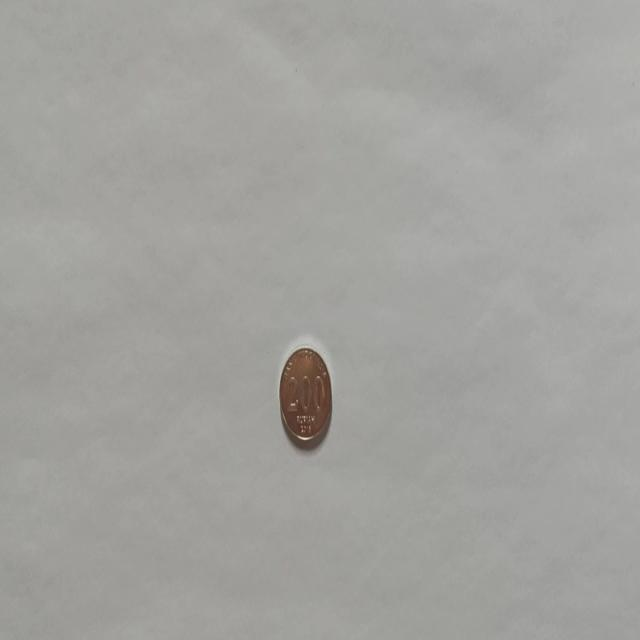dua ratus rupiah: (278, 344, 332, 448)
